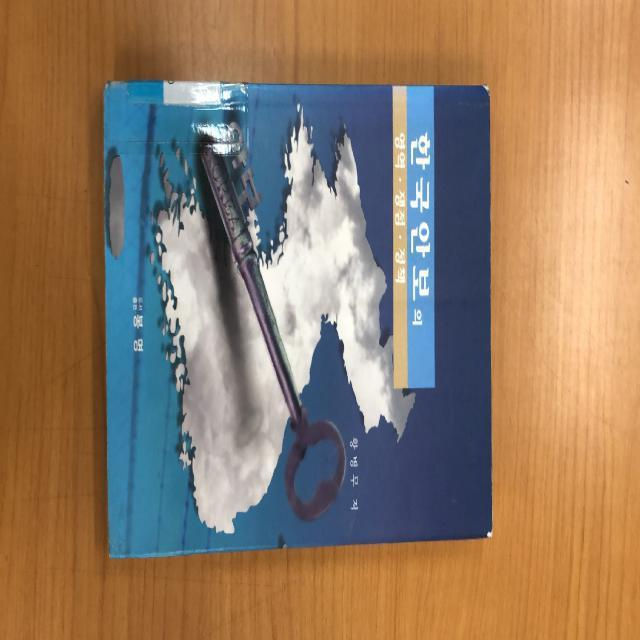Wornout: (97, 71, 125, 96), (475, 80, 495, 114), (483, 502, 498, 545)
